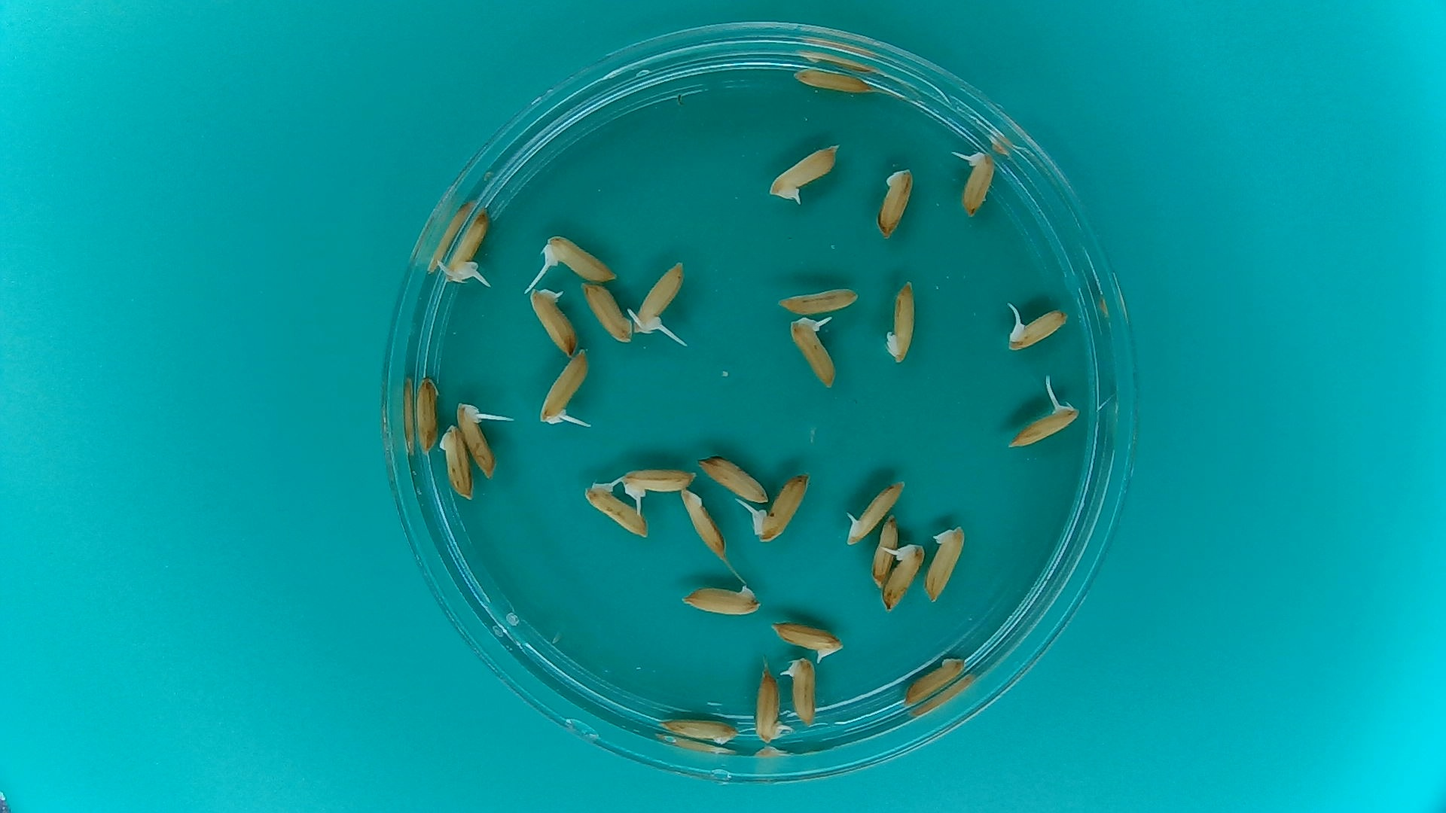no: (678, 486, 730, 562), (694, 450, 770, 502), (578, 279, 635, 346), (871, 163, 918, 242), (882, 273, 921, 367), (676, 579, 764, 620), (904, 654, 966, 709), (657, 708, 743, 747), (926, 528, 969, 602), (751, 665, 791, 743), (773, 282, 862, 317), (789, 63, 873, 98), (438, 425, 472, 498), (868, 510, 899, 590), (413, 370, 441, 454)
yes: (843, 477, 905, 548), (630, 257, 686, 335), (526, 281, 580, 360), (791, 315, 843, 394), (755, 470, 810, 544), (770, 142, 840, 199), (539, 350, 590, 428), (585, 482, 649, 541), (443, 204, 490, 284), (546, 235, 621, 284), (456, 402, 498, 480), (881, 543, 926, 611), (765, 623, 842, 662), (1009, 403, 1078, 446), (1005, 302, 1069, 348), (781, 656, 820, 729), (620, 464, 700, 495), (962, 150, 996, 217)
